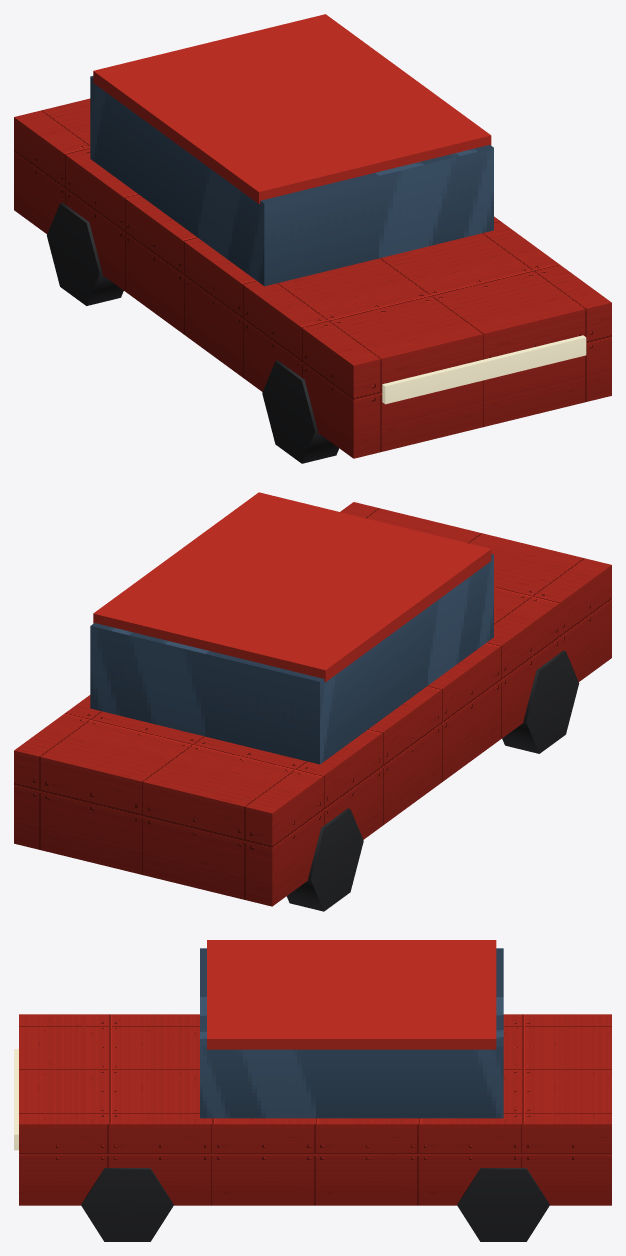
The model's file is carro_estacionado_leve.glb.
3 renders of one model, top to bottom at view 1: azimuth 30°, elevation 25°; view 2: azimuth 150°, elevation 25°; view 3: azimuth 270°, elevation 25°, orthographic. The views are drawn at different scales.
Parts seen in each view (by area): view 1: carro_estacionado_leve, carro_estacionado_leve_metal; view 2: carro_estacionado_leve, carro_estacionado_leve_metal; view 3: carro_estacionado_leve_metal, carro_estacionado_leve.
Boxes of the visible parts, x1,y1,x2,y2 form: carro_estacionado_leve: (47,14,586,463); carro_estacionado_leve_metal: (14,98,611,458); carro_estacionado_leve: (90,492,579,911); carro_estacionado_leve_metal: (14,502,611,906); carro_estacionado_leve_metal: (19,1014,611,1205); carro_estacionado_leve: (14,940,549,1241).
Bounding box in the file's own units: 1.84 × 1.5 × 4.13.
Materials: 4 (2 with a texture image).
